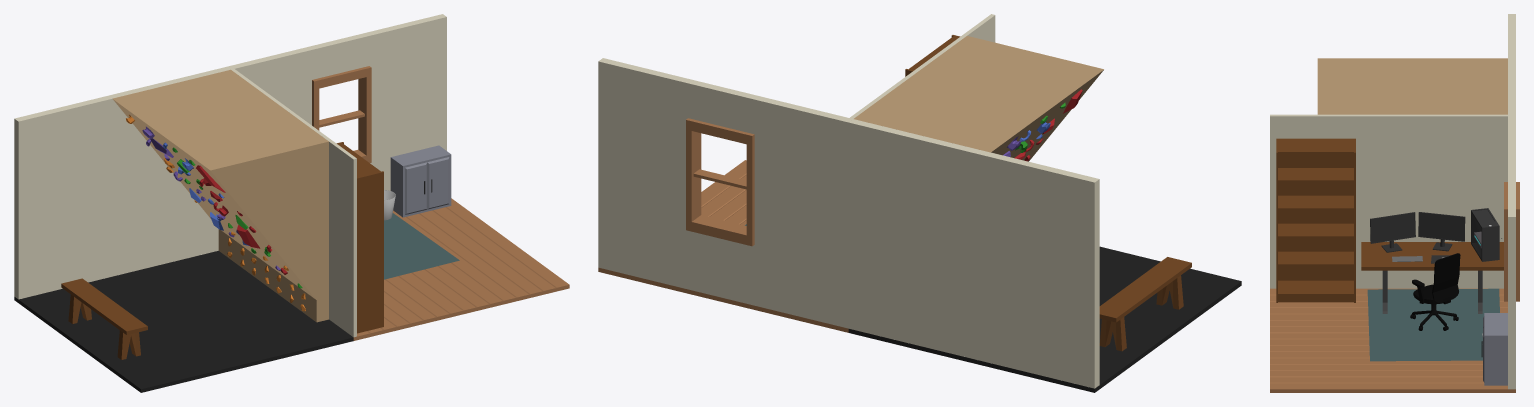
Rendered from portfolioRoomRegrouped.glb.
3 views of the same model, side by side, from view 1: azimuth 30°, elevation 25°; view 2: azimuth 150°, elevation 25°; view 3: azimuth 270°, elevation 25° (orthographic). The views are drawn at different scales.
Parts seen in each view (by area): view 1: Structure2, Structure, ClimbingWall, FloorItems, RedHolds, OrangeHolds, PurpleHolds; view 2: Structure2, Structure, ClimbingWall; view 3: Structure, FloorItems, ClimbingWall, DeskItems, Desk, Chair, Structure2.
Boxes of the visible parts, x1,y1,x2,y2 form: Structure2: [14, 66, 353, 392]; Structure: [227, 14, 569, 340]; ClimbingWall: [61, 69, 328, 359]; FloorItems: [336, 142, 459, 333]; RedHolds: [196, 165, 287, 274]; OrangeHolds: [126, 114, 305, 311]; PurpleHolds: [142, 126, 280, 270]; Structure2: [848, 119, 1241, 392]; Structure: [598, 14, 995, 332]; ClimbingWall: [854, 36, 1191, 351]; Structure: [1270, 114, 1519, 392]; FloorItems: [1276, 138, 1507, 385]; ClimbingWall: [1317, 58, 1507, 114]; DeskItems: [1370, 208, 1501, 263]; Desk: [1361, 242, 1503, 313]; Chair: [1412, 253, 1460, 304]; Structure2: [1508, 14, 1515, 114].
Size of the model in its own units: 6.15 by 2.49 by 3.2.
